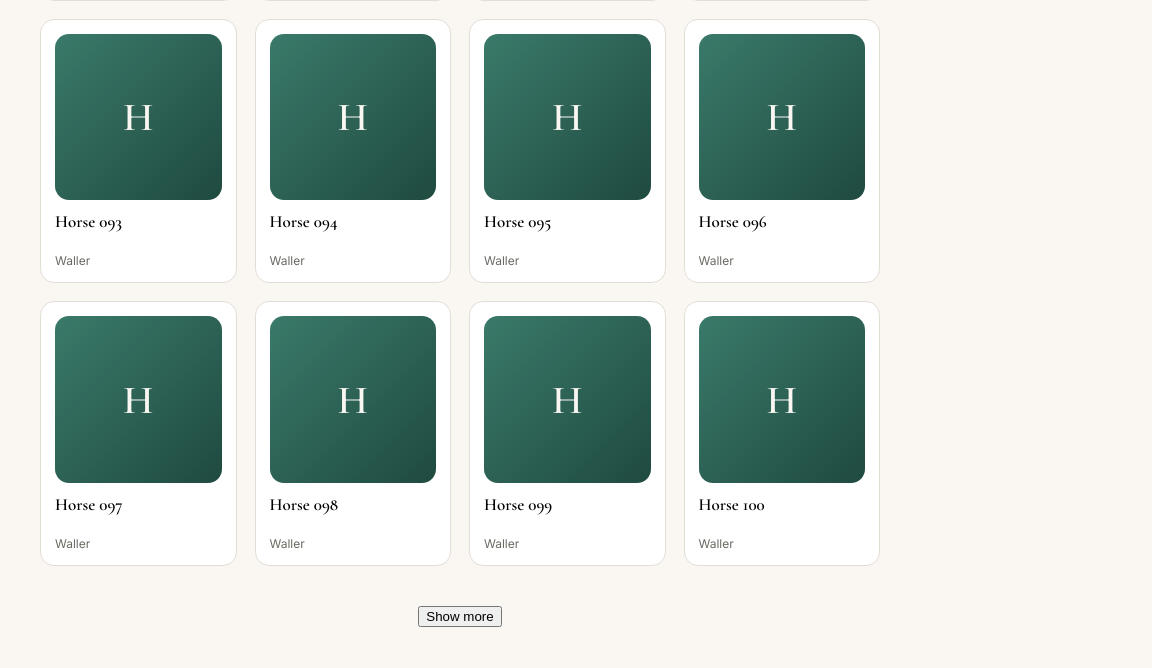
Test case: ENG-960 browse paging — the cap bounds the read, the pager keeps every row reachable › F2: a load-more still in flight when the pill switches cannot append to the new roster
This screenshot has width=1152, height=668.
(page scrolled)
Click the button "Show more". click: (460, 616)
box: [418,606,502,627]
(page scrolled)
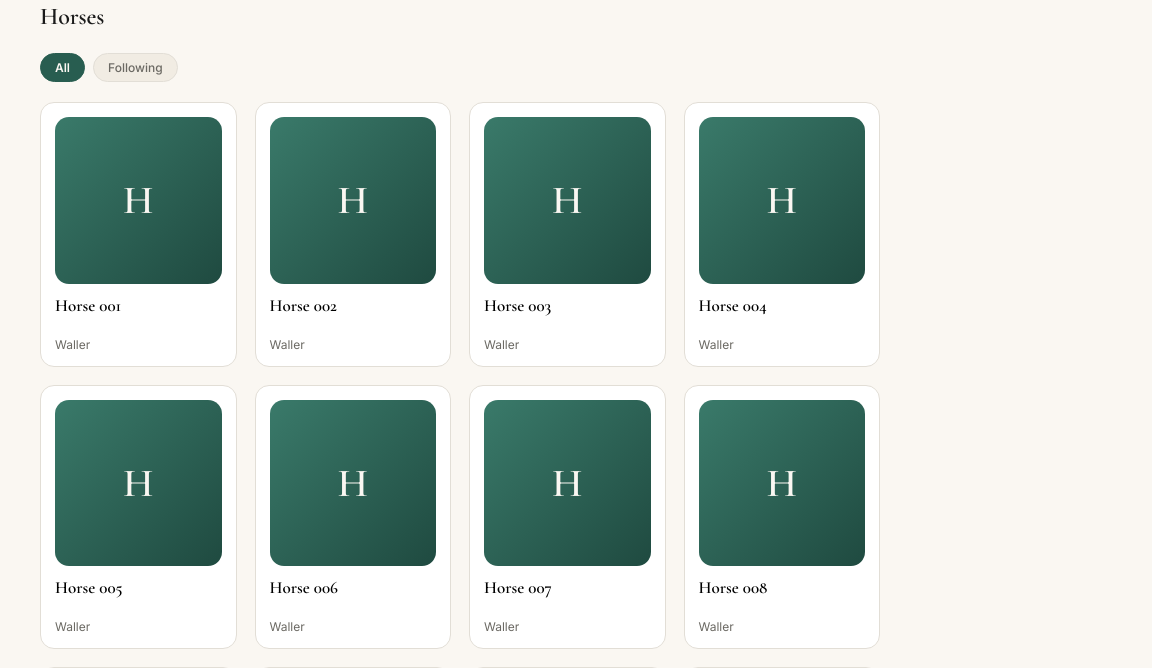
Click the button with test id "browse-filter-following". click: (135, 68)
box: [93,53,178,82]
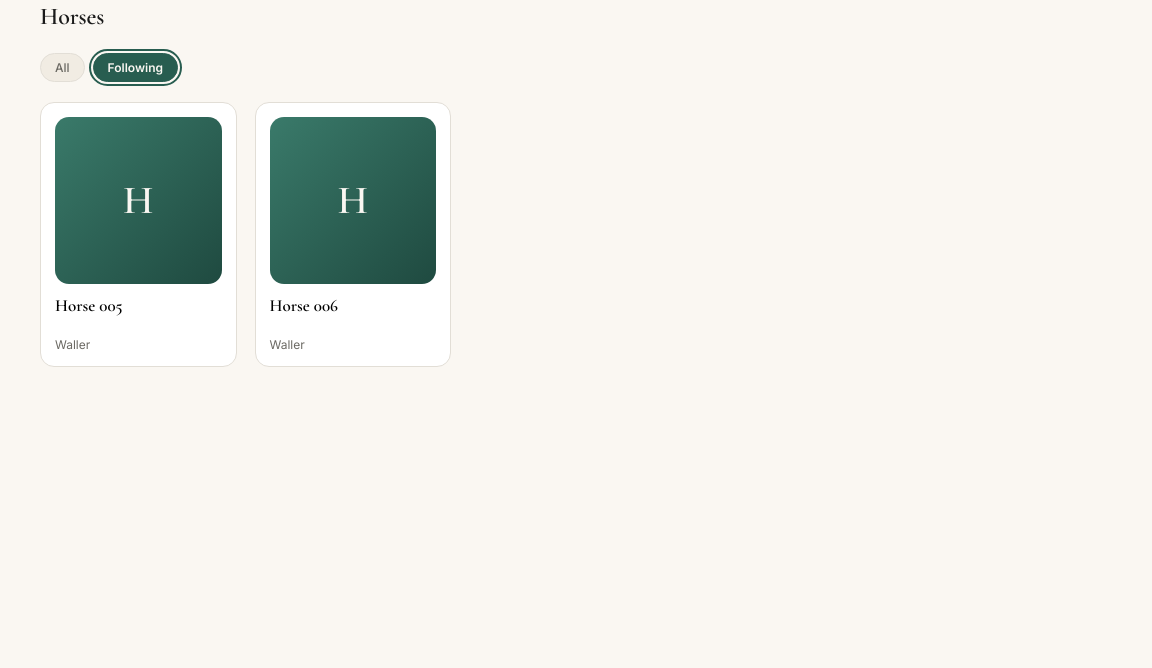
Expected: the text "Horse 005" is shown, [55,294,122,316]
Result: the button "Horse 001" is gone
Result: the text "Horse 005" is shown 2 times at [55,294,122,316]; [270,294,338,316]
